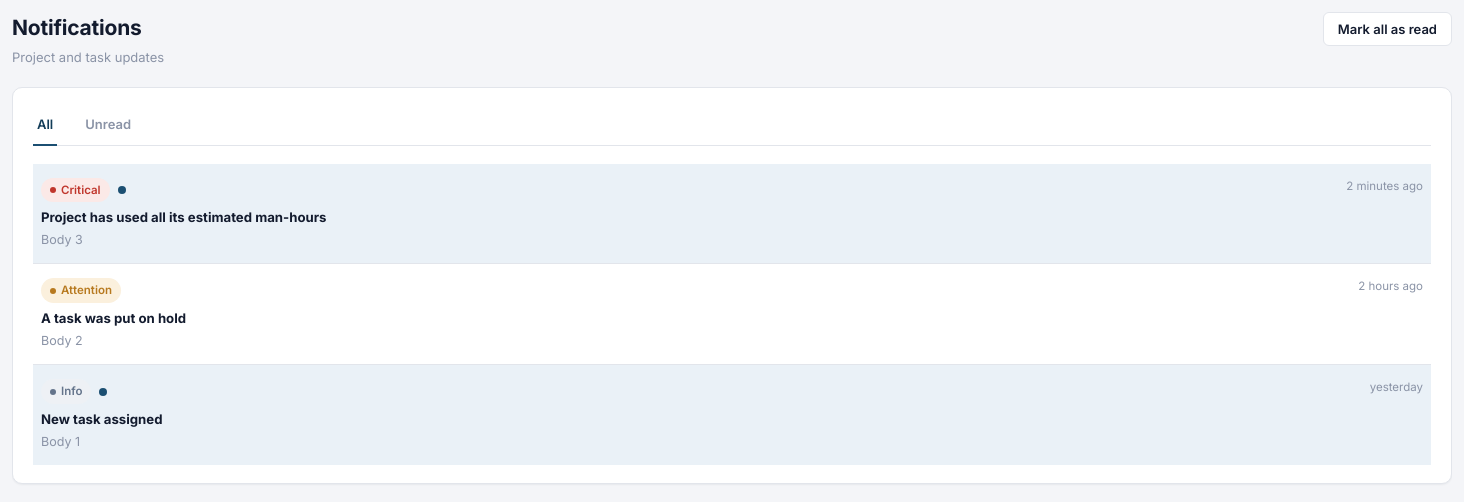
Scenario: Notifications page › mark all as read clears them and resets the bell
expect the element with test id "notification-list" is shown: met, box left=33, top=164, right=1431, bottom=465
Click the button "Mark all as read".
click(1387, 29)  # box left=1323, top=12, right=1452, bottom=46
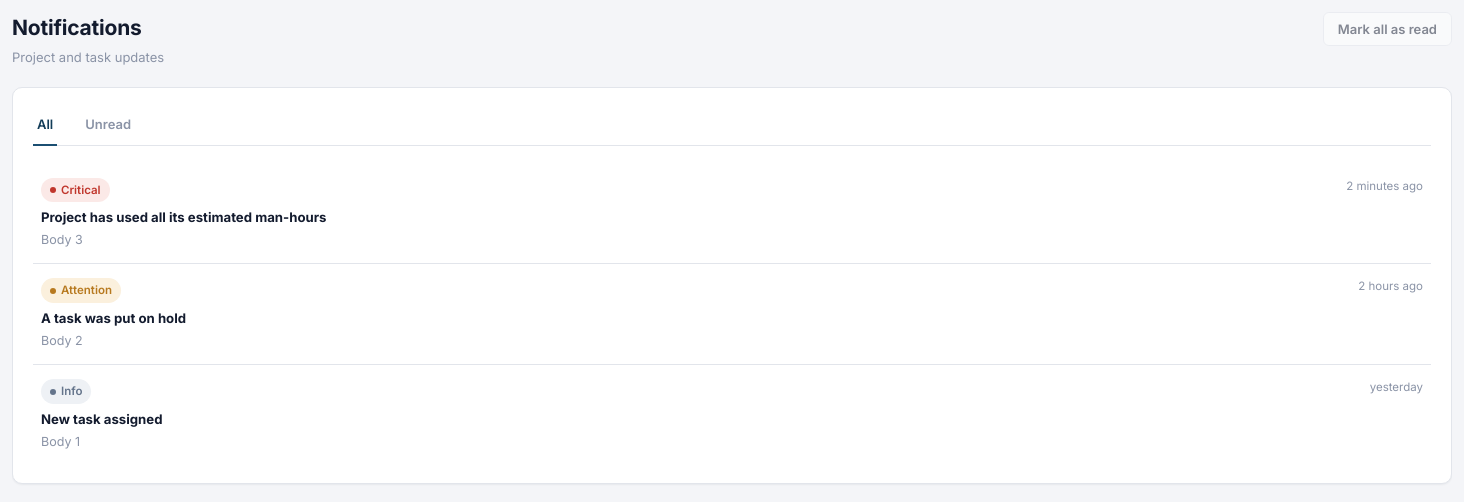
expect no fields labelled "Unread" are shown: met
expect the button "Mark all as read" is disabled: met, box left=1323, top=12, right=1452, bottom=46
